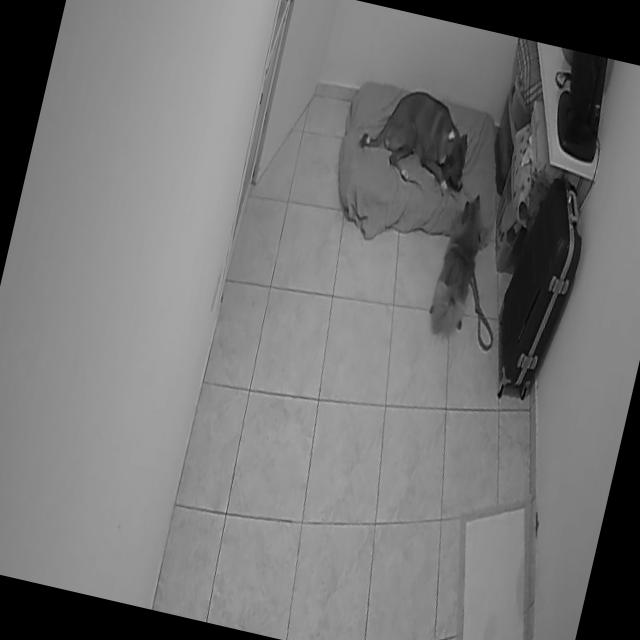laying down: (349, 72, 488, 204), (422, 188, 496, 346)
